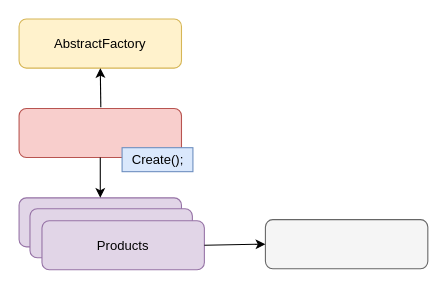
Some shapes in this 447 by 289 pixel diagram are drawn without their labels. The box of each missing label's shape, as (x1, y1, x2, y2) in pixels:
AbstractProduct: (264, 219, 428, 269)
ConcreteFactory: (18, 107, 181, 158)
